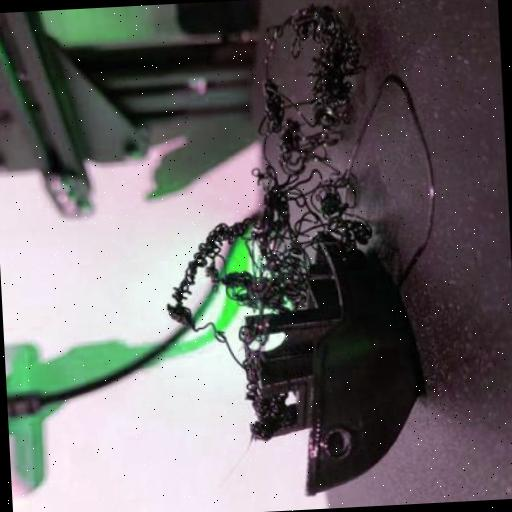spaghetti: (150, 0, 381, 358), (242, 356, 297, 442)
